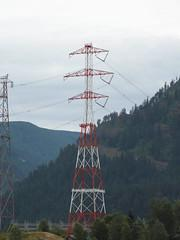power_tower: (59, 42, 117, 228)
